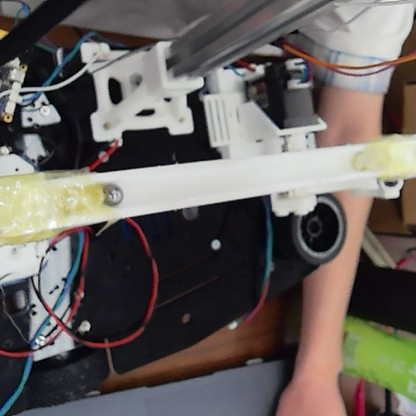ironball: (99, 180, 124, 209)
